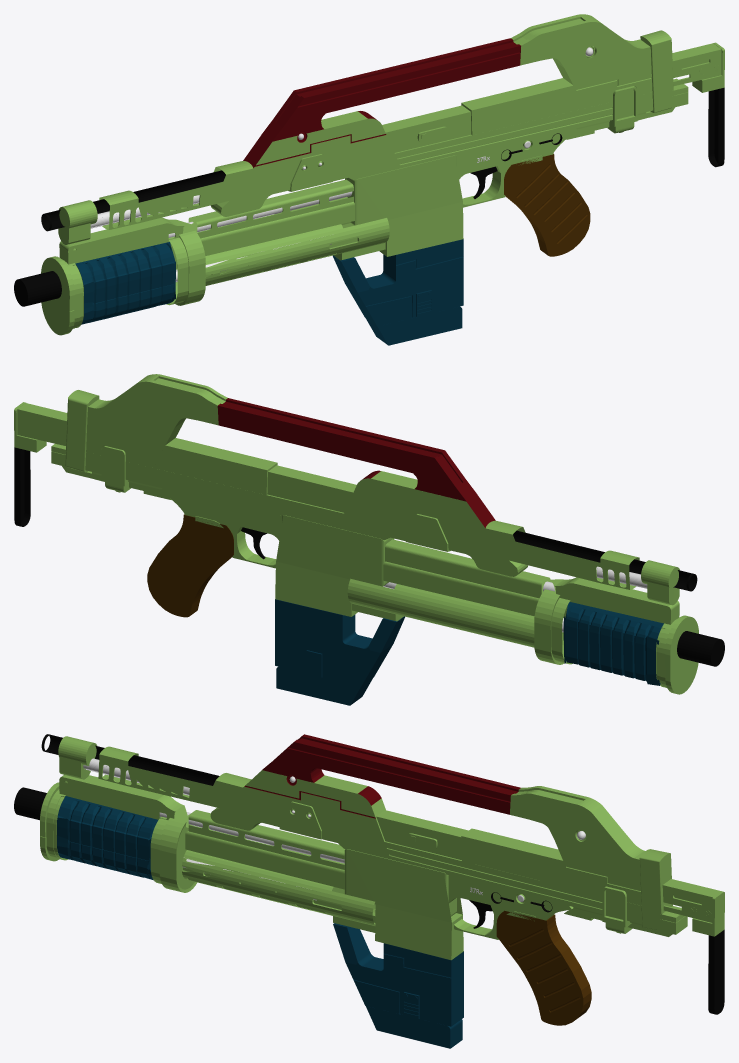
File: ALIEN GUN.fbx
3 views of the same model, one above another, from view 1: azimuth 30°, elevation 25°; view 2: azimuth 150°, elevation 25°; view 3: azimuth 330°, elevation 25° (orthographic).
Visible parts, largest first — view 1: Cube, Cube.014, Cube.011, Cube.005, Cube.009, Cube.006, Cube.010, Cube.008, Cube.001; view 2: Cube, Cube.014, Cube.011, Cube.005, Cube.009, Cube.006, Cube.010, Cube.008; view 3: Cube, Cube.014, Cube.011, Cube.009, Cube.005, Cube.006, Cube.008, Cube.010, Cube.001.
Boxes of the visible parts, bbox=[...] form: Cube: bbox=[41, 14, 724, 335]; Cube.014: bbox=[333, 239, 463, 345]; Cube.011: bbox=[243, 38, 520, 168]; Cube.005: bbox=[75, 242, 175, 324]; Cube.009: bbox=[504, 154, 590, 256]; Cube.006: bbox=[41, 170, 225, 231]; Cube.010: bbox=[14, 271, 61, 306]; Cube.008: bbox=[708, 87, 724, 167]; Cube.001: bbox=[168, 191, 352, 237]; Cube: bbox=[14, 374, 698, 694]; Cube.014: bbox=[275, 599, 404, 705]; Cube.011: bbox=[217, 398, 495, 527]; Cube.005: bbox=[563, 602, 663, 685]; Cube.009: bbox=[147, 514, 233, 617]; Cube.006: bbox=[513, 530, 697, 591]; Cube.010: bbox=[677, 631, 724, 666]; Cube.008: bbox=[14, 447, 30, 526]; Cube: bbox=[40, 736, 724, 960]; Cube.014: bbox=[333, 923, 463, 1048]; Cube.011: bbox=[244, 734, 520, 818]; Cube.009: bbox=[496, 910, 591, 1025]; Cube.005: bbox=[57, 796, 160, 880]; Cube.006: bbox=[41, 734, 219, 785]; Cube.008: bbox=[708, 929, 724, 1014]; Cube.010: bbox=[14, 787, 46, 820]; Cube.001: bbox=[159, 812, 344, 863].
Bounding box in the file's own units: 515 × 193 × 36.88.
